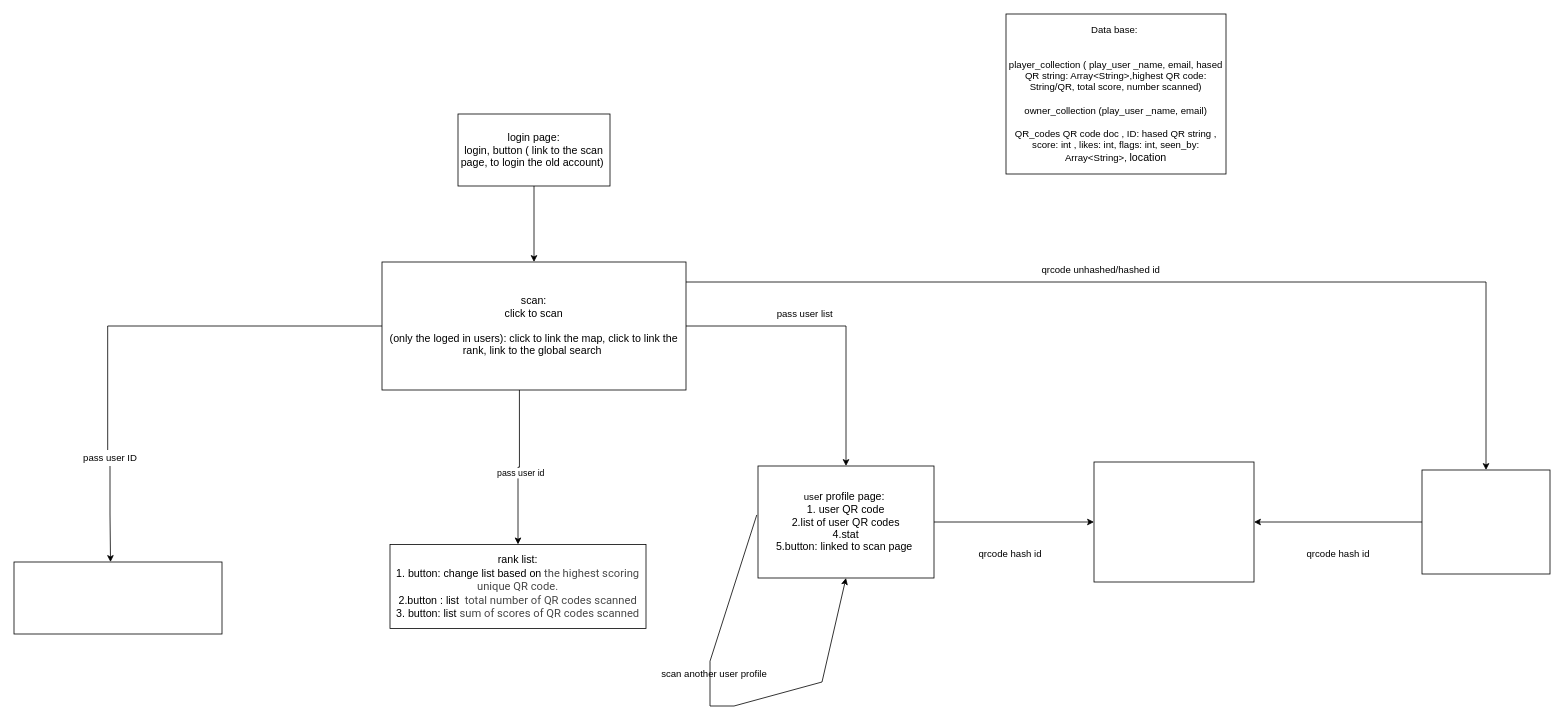
The diagram is 1564 pixels wide and 726 high, and some of its shapes have lost their labels. The centre of each missing label's shape, as x and y in pixels:
"afterscan page: geo location, score, picture of spot" goes at point 1485,521.
"ma p: see the QR code location with score on map" goes at point 117,597.
"Q R code page: 1. comments 2.likes 3. gallery 4.flag" goes at point 1173,521.
